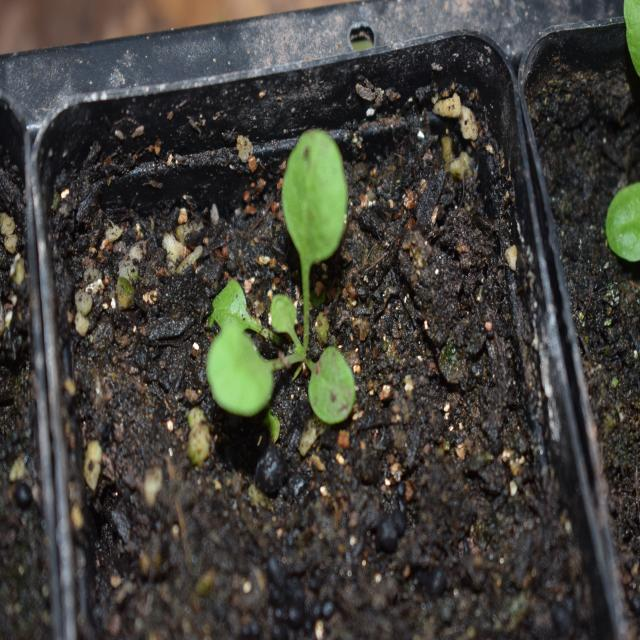Shepherd_Purse: (195, 118, 369, 434)
